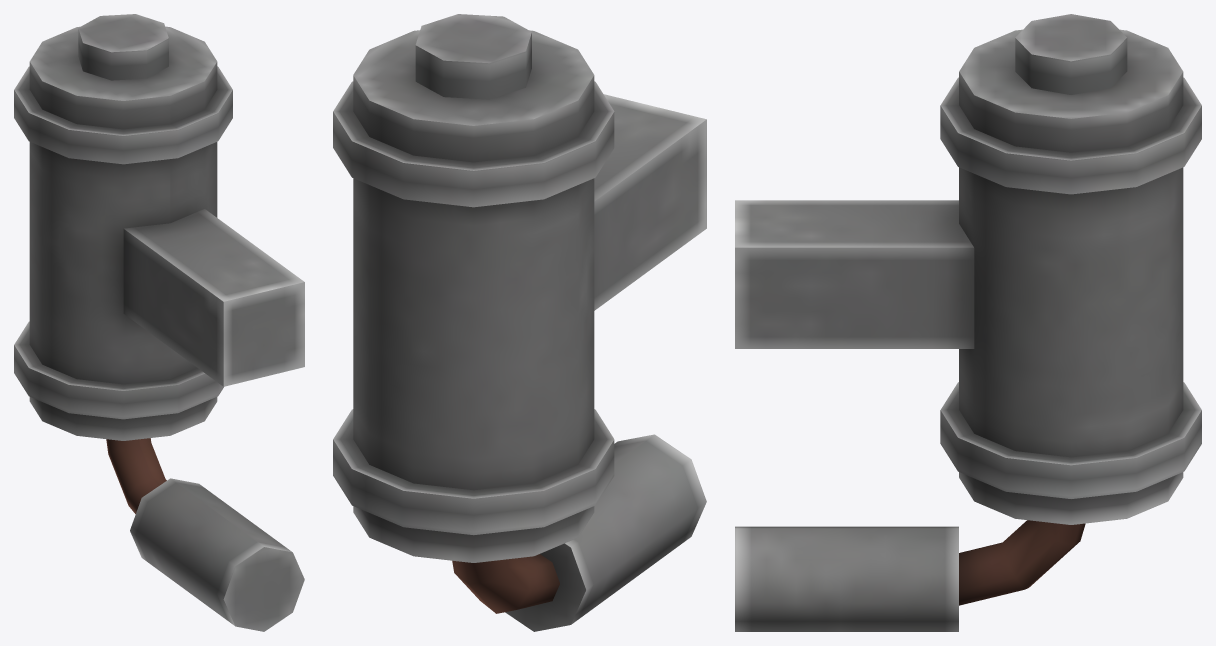
Rendered from 4mv_battery_srf_1.obj.
The picture shows the model from 3 angles, left to right: view 1: azimuth 30°, elevation 25°; view 2: azimuth 150°, elevation 25°; view 3: azimuth 270°, elevation 25°; orthographic projection. The views are drawn at different scales.
Visible parts, largest first — view 1: mesh1; view 2: mesh1; view 3: mesh1.
Boxes of the visible parts, x1,y1,x2,y2 form: mesh1: (14,14,304,631); mesh1: (333,14,706,631); mesh1: (735,14,1201,631).
Size of the model in its own units: 0.0875 by 0.2187 by 0.1562.
Materials: 1 (1 with a texture image).
